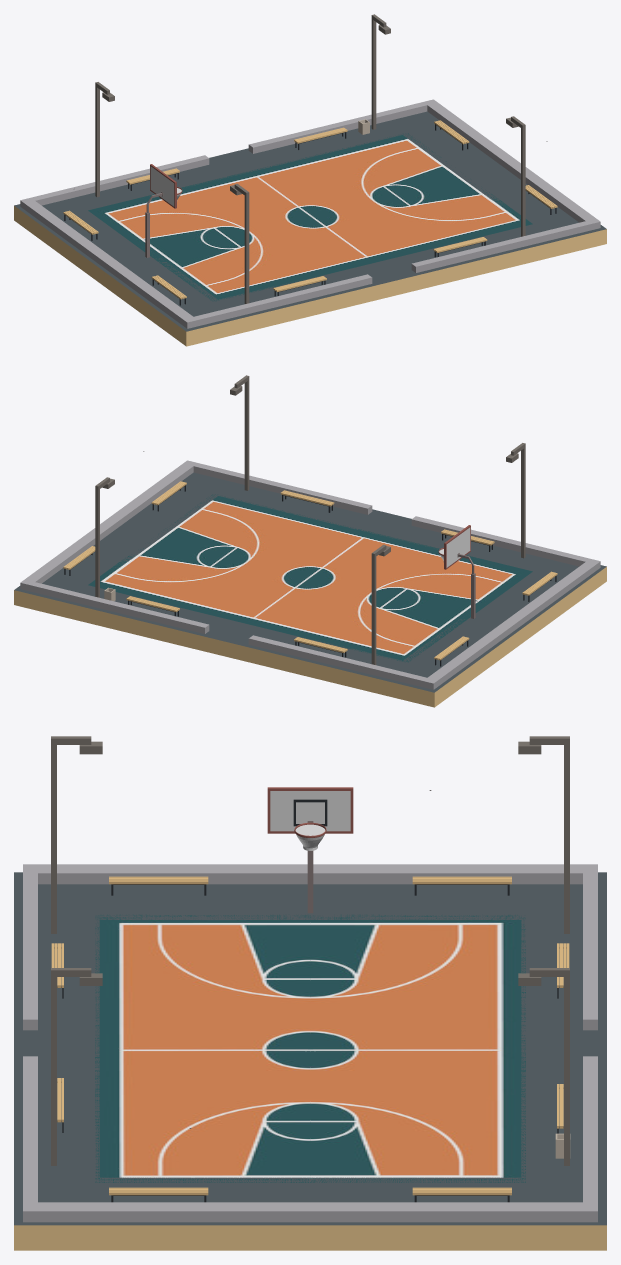
Rendered from Basketball_Court.glb.
The picture shows the model from 3 angles, top to bottom: view 1: azimuth 30°, elevation 25°; view 2: azimuth 150°, elevation 25°; view 3: azimuth 270°, elevation 25°; orthographic projection. The views are drawn at different scales.
Visible parts, largest first — view 1: Base, Court, Light Pillars, Benches, Basketball_Stand; view 2: Base, Court, Light Pillars, Benches, Basketball_Stand; view 3: Court, Base, Light Pillars, Benches, Basketball_Stand.
Part boxes in pixels (<box>): Base: <box>14,99,606,346</box>; Court: <box>88,133,532,301</box>; Light Pillars: <box>95,14,525,303</box>; Benches: <box>63,120,557,305</box>; Basketball_Stand: <box>145,164,182,257</box>; Base: <box>14,451,606,707</box>; Court: <box>88,494,532,662</box>; Light Pillars: <box>95,375,525,664</box>; Benches: <box>63,481,557,666</box>; Basketball_Stand: <box>438,525,475,618</box>; Court: <box>95,914,525,1182</box>; Base: <box>14,790,606,1250</box>; Light Pillars: <box>51,736,569,1165</box>; Benches: <box>51,876,569,1202</box>; Basketball_Stand: <box>267,787,353,913</box>.
Bounding box in the file's own units: 5.79 × 1.69 × 4.11.
Materials: 12 (1 with a texture image).
